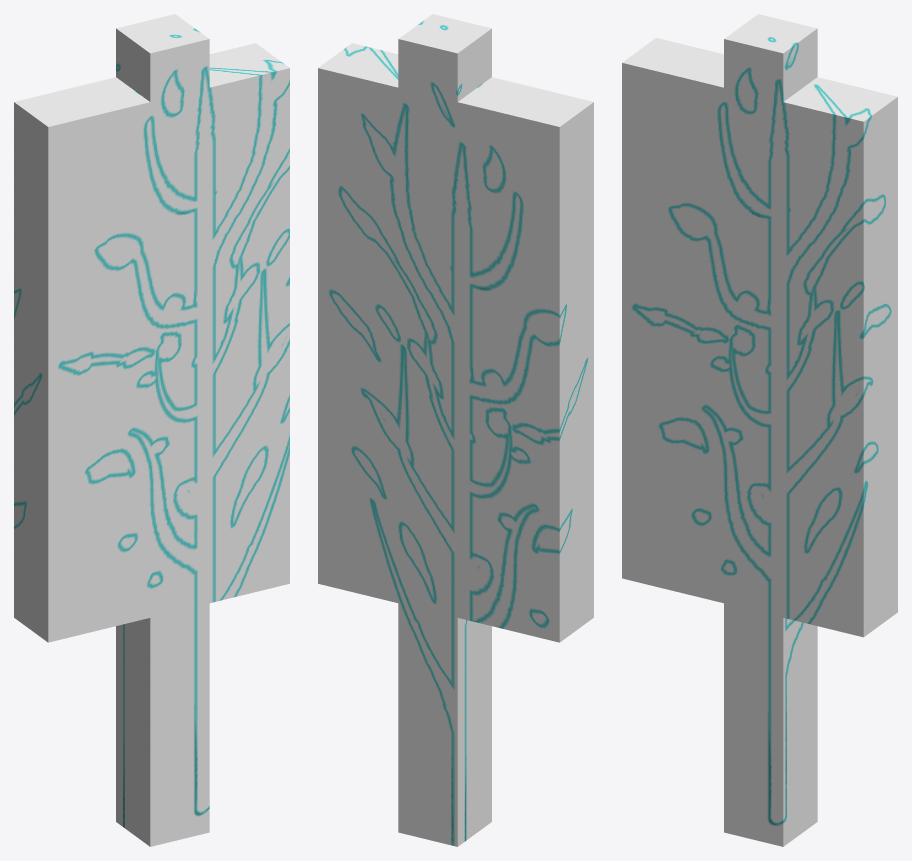
The model's file is Tree.fbx.
The picture shows the model from 3 angles, left to right: view 1: azimuth 30°, elevation 25°; view 2: azimuth 150°, elevation 25°; view 3: azimuth 330°, elevation 25°; orthographic projection.
Parts seen in each view (by area): view 1: 立方体; view 2: 立方体; view 3: 立方体.
Boxes of the visible parts, <box> form: 立方体: <box>14,14,289,846</box>; 立方体: <box>318,14,593,846</box>; 立方体: <box>622,14,897,846</box>.
Size of the model in its own units: 816 by 2561 by 200.
